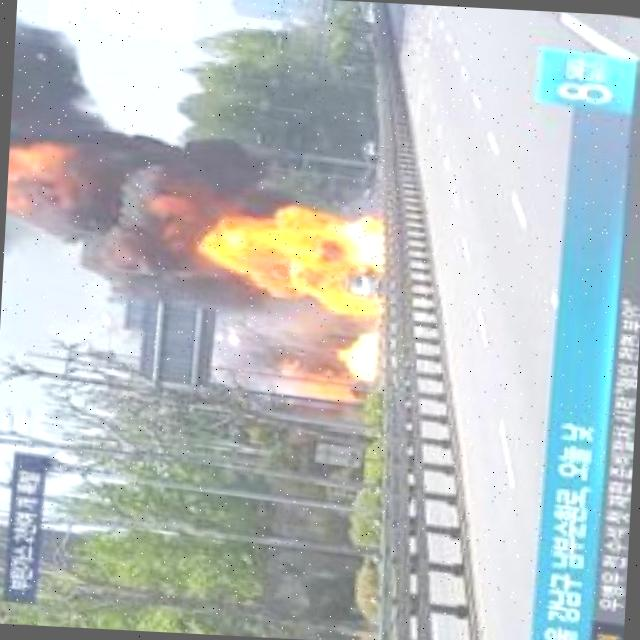fire: (217, 196, 395, 314), (336, 329, 384, 381), (282, 381, 353, 399)
